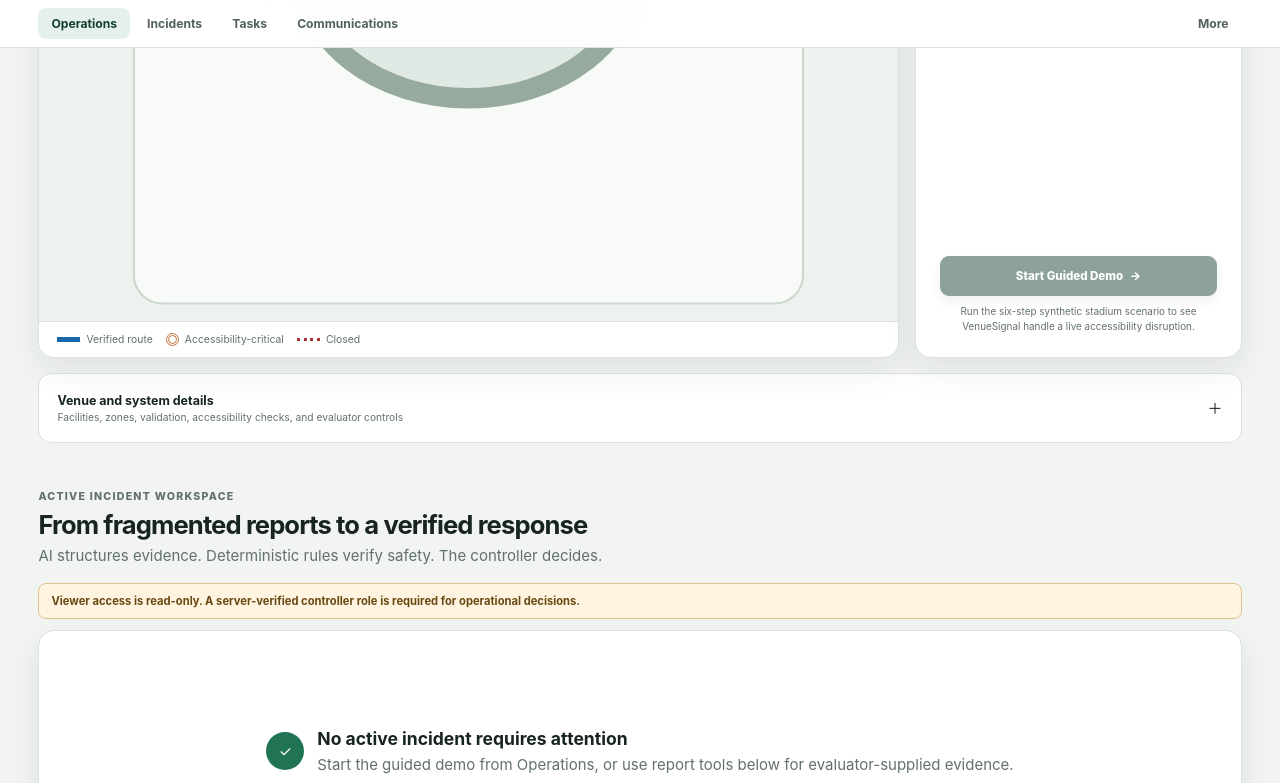
Test case: VenueSignal frontend experience › makes every consequential control read-only for a verified viewer
(page scrolled)
Check: the text "Viewer access is read-only" is shown, box left=51, top=594, right=580, bottom=608
Click the text "Venue and system details" at (136, 400), box left=57, top=393, right=214, bottom=408
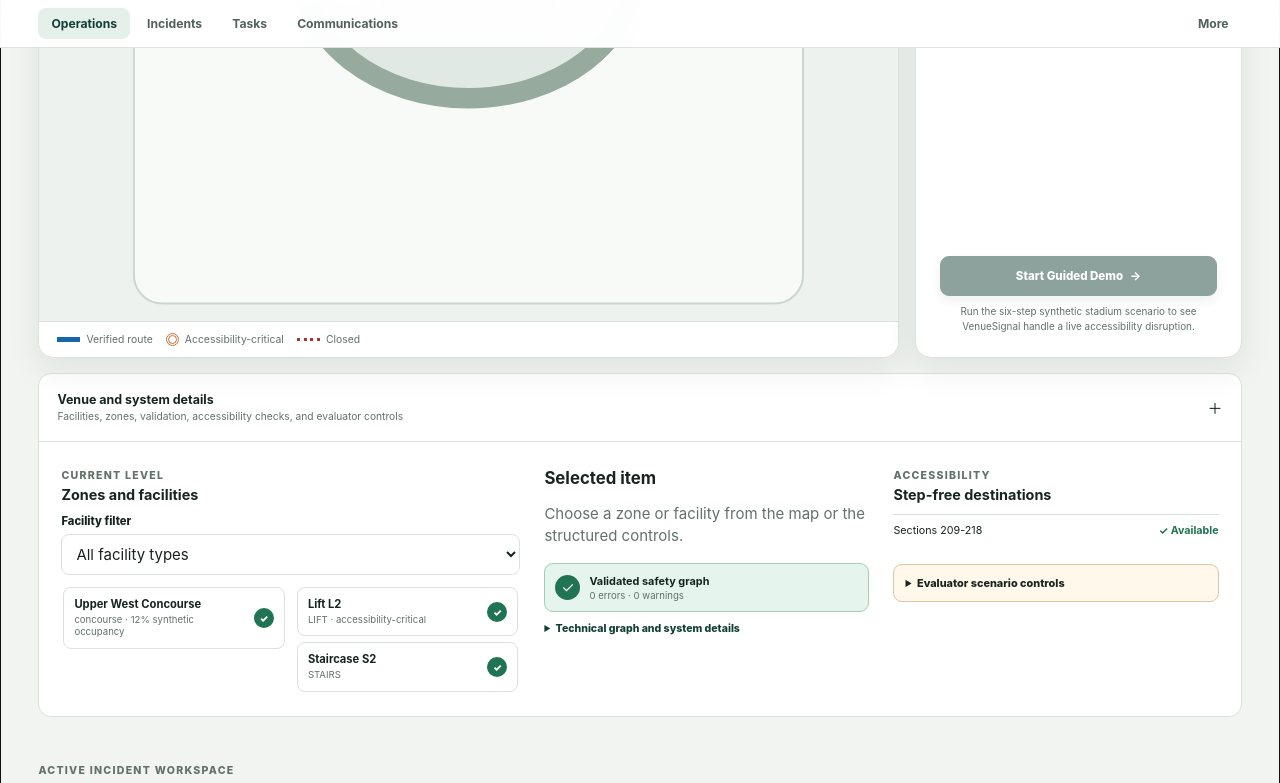
Click the heading "Evaluator scenario controls" at (991, 583), box left=917, top=576, right=1065, bottom=590
(page scrolled)
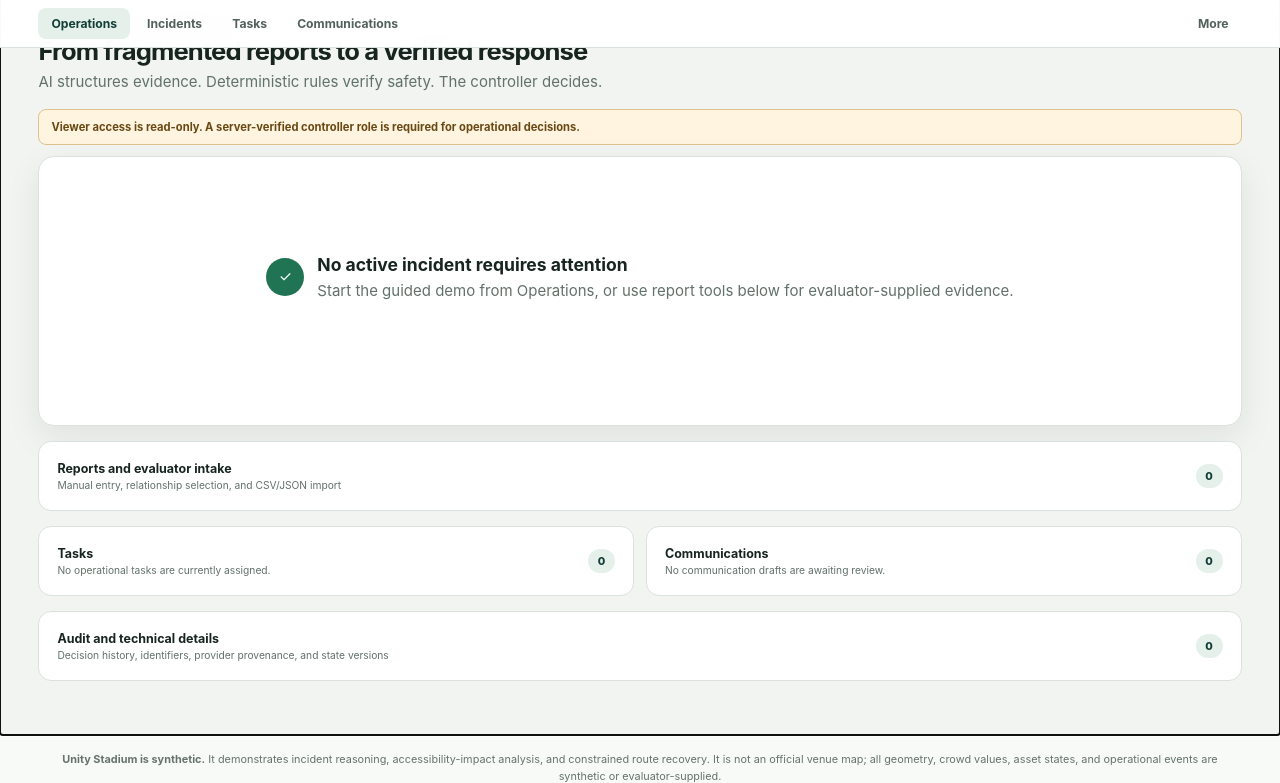
Click the text "Reports and evaluator intake" at (144, 468), box left=57, top=461, right=232, bottom=476
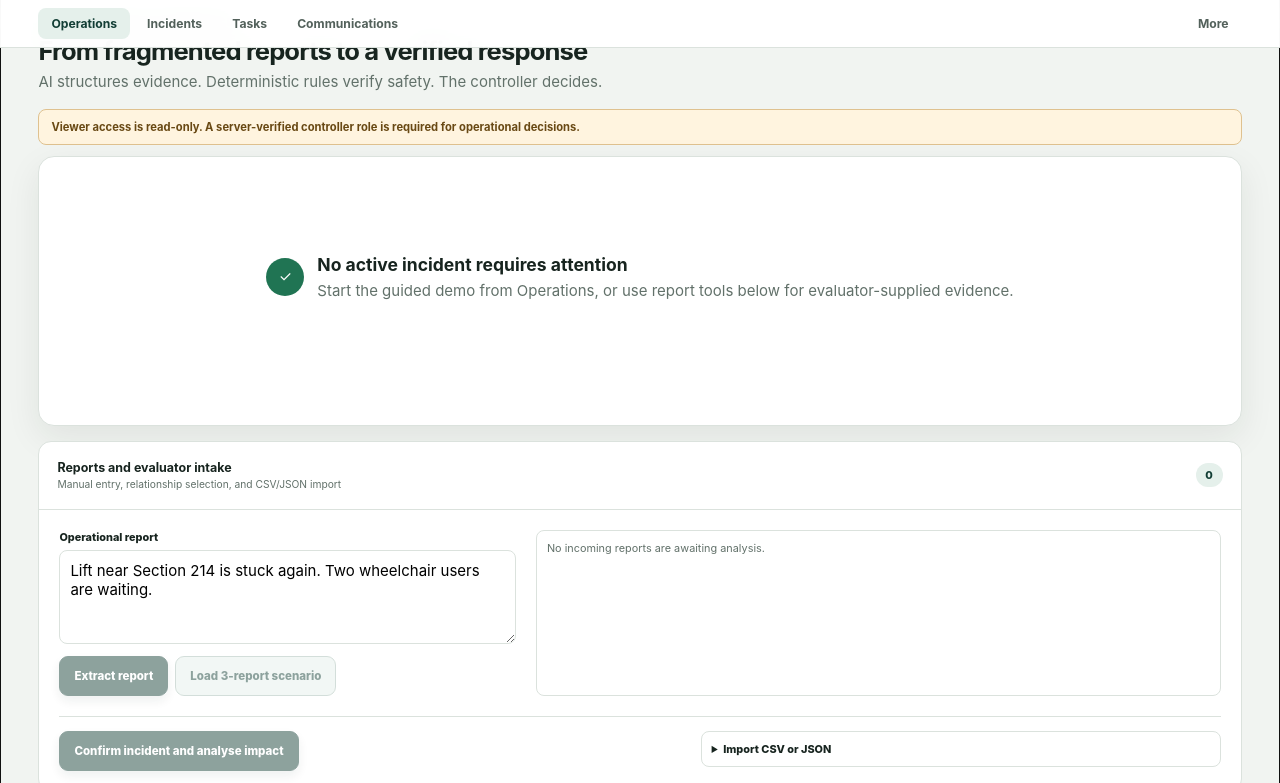
Check: the button "Extract report" is disabled, box left=59, top=656, right=168, bottom=696
Check: the element named "CSV or JSON evaluator import" is disabled, box left=701, top=731, right=1221, bottom=767
